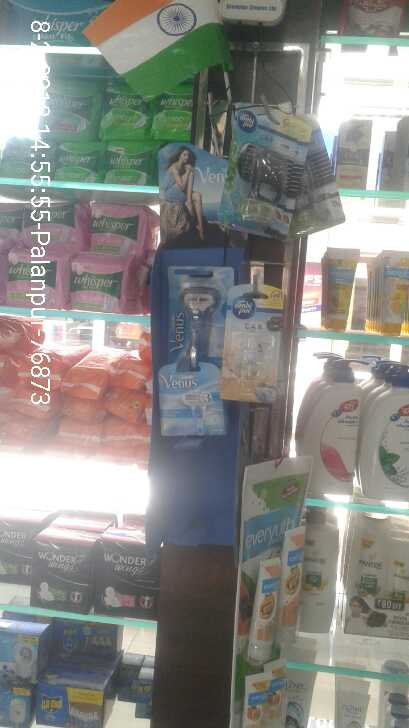beauty: (225, 99, 306, 236), (300, 352, 360, 494), (357, 350, 409, 497), (167, 259, 226, 368), (155, 365, 229, 439), (330, 119, 368, 191)
pharmacy: (69, 255, 137, 315), (98, 76, 155, 138), (41, 76, 96, 138), (90, 202, 148, 254), (54, 141, 103, 180), (106, 141, 150, 183)
